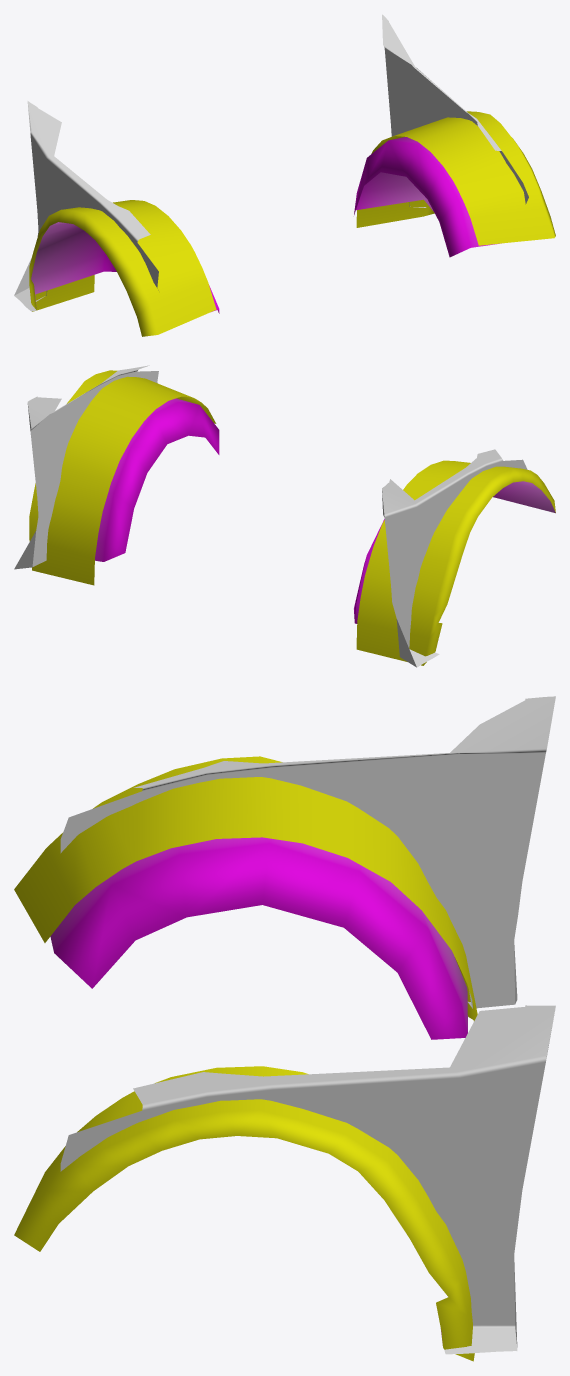
The model's file is Car_Mini_CountrymanJCW_2017_FendersChassisF_SetC.fbx.
3 views of the same model, one above another, from view 1: azimuth 30°, elevation 25°; view 2: azimuth 150°, elevation 25°; view 3: azimuth 270°, elevation 25° (orthographic). The views are drawn at different scales.
Visible parts, largest first — view 1: FendersChassisF 6; view 2: FendersChassisF 6; view 3: FendersChassisF 6.
Part boxes in pixels (x1,y1,x2,y2): FendersChassisF 6: (14, 14, 555, 336); FendersChassisF 6: (14, 365, 555, 667); FendersChassisF 6: (14, 696, 555, 1361).
Bounding box in the file's own units: 1.78 × 0.7685 × 1.11.
